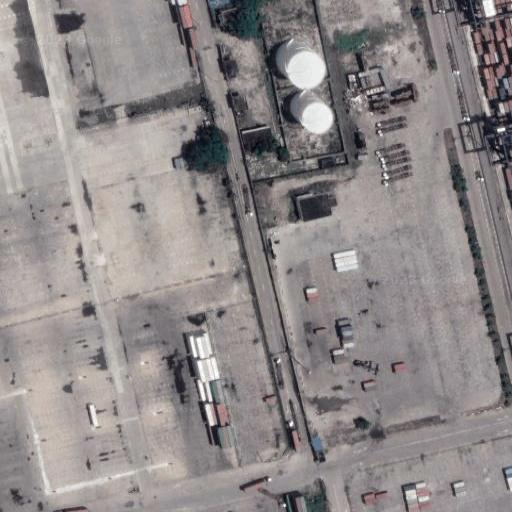building: (276, 41, 312, 77), (295, 189, 334, 218), (287, 95, 316, 124), (209, 0, 233, 7)
